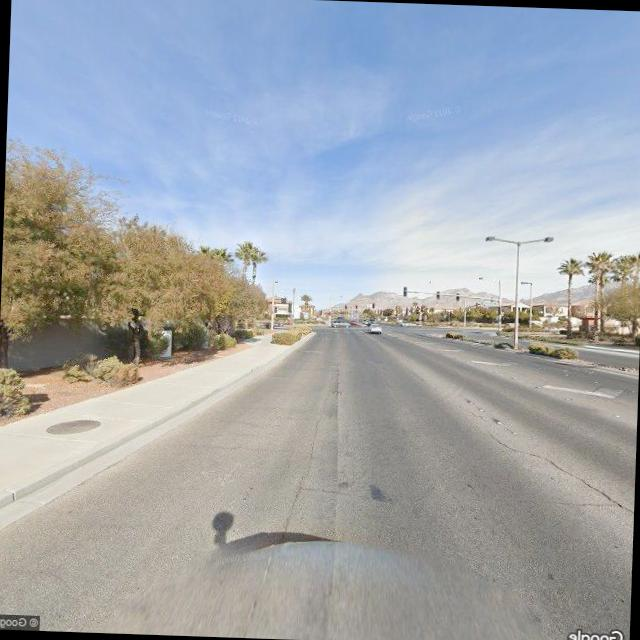crack: (486, 425, 628, 508), (282, 409, 326, 536)
